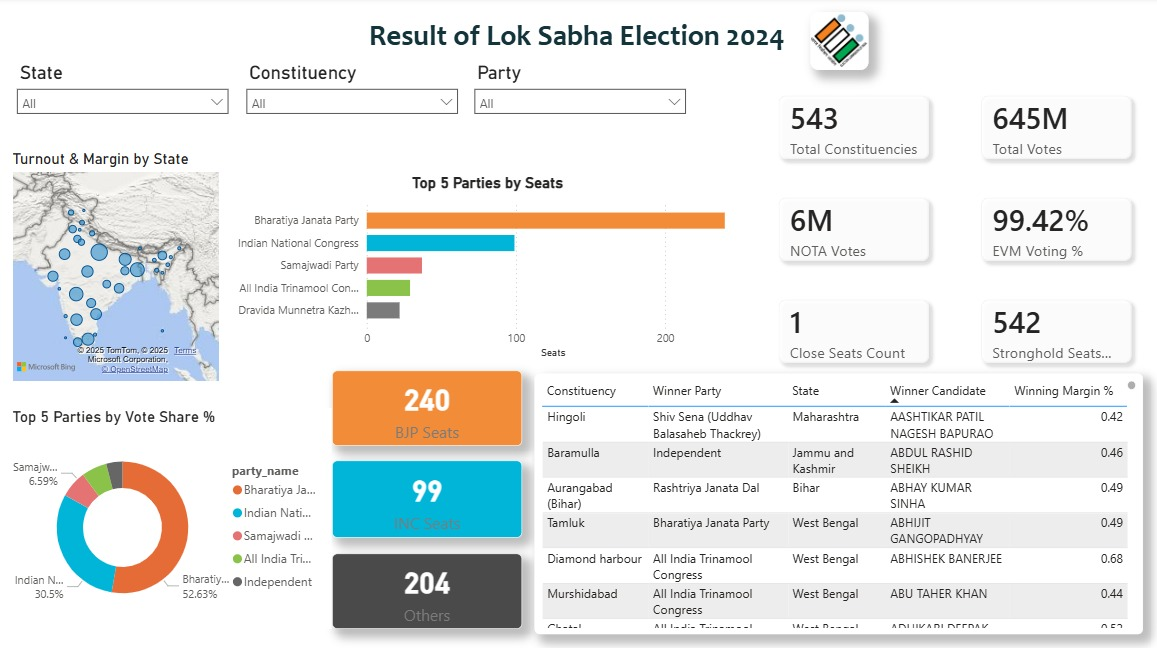

This screenshot's page, from the dashboard's own definition file:
{"tool":"powerbi","page":{"name":"Page 1","canvas":[1280,720],"ordinal":0},"visuals":[{"type":"textbox","box":[9.4,17,1256.7,52.9],"z":0},{"type":"slicer","fields":{"Values":["election_result_2024.state_name"]},"box":[9.4,66.1,253.2,86.9],"z":1000},{"type":"slicer","fields":{"Values":["election_result_2024.constituency_name"]},"box":[262.7,66.1,253.2,86.9],"z":2000},{"type":"slicer","fields":{"Values":["election_result_2024.party_name"]},"box":[515.9,66.1,253.2,86.9],"z":3000},{"type":"cardVisual","fields":{"Data":["election_result_2024.Total Constituencies"]},"box":[832,80,224,128],"z":4000},{"type":"cardVisual","fields":{"Data":["election_result_2024.Total Votes"]},"box":[1056,80,224,128],"z":5000},{"type":"cardVisual","fields":{"Data":["election_result_2024.NOTA Votes"]},"box":[832,192,224,128],"z":6000},{"type":"cardVisual","fields":{"Data":["election_result_2024.EVM Voting %"]},"box":[1056,192,224,128],"z":7000},{"type":"cardVisual","fields":{"Data":["election_result_2024.Close Seats Count"]},"box":[832,304,224,128],"z":8000},{"type":"cardVisual","fields":{"Data":["election_result_2024.Stronghold Seats Count"]},"box":[1056,304,224,128],"z":9000},{"type":"map","title":"Turnout & Margin by State","fields":{"Category":["election_result_2024.state_name"],"Size":["election_result_2024.Total Votes"]},"box":[9.4,168.2,238.1,258.9],"z":10000},{"type":"clusteredBarChart","title":"Top 5 Parties by Seats","fields":{"Category":["election_result_2024.party_name"],"Y":["election_result_2024.Seats by Party"]},"box":[247.6,194.6,585.8,207.9],"z":11000},{"type":"card","fields":{"Values":["election_result_2024.Seats - BJP"]},"box":[368.5,412,209.8,83.2],"z":12000},{"type":"card","fields":{"Values":["election_result_2024.Seats - INC"]},"box":[368.5,512.1,209.8,85],"z":13000},{"type":"card","fields":{"Values":["election_result_2024.Seats - Others"]},"box":[368.5,614.2,209.8,83.2],"z":14000},{"type":"donutChart","title":"Top 5 Parties by Vote Share %","fields":{"Category":["election_result_2024.party_name"],"Y":["election_result_2024.Votes by Party"]},"box":[9.4,453.5,357.2,243.8],"z":15000},{"type":"tableEx","fields":{"Values":["election_result_2024.constituency_name","election_result_2024.party_name","election_result_2024.state_name","election_result_2024.candidate_name","election_result_2024.Winning Margin %"]},"box":[592,416,672,288],"z":16000},{"type":"image","box":[896,16,64,64],"z":16001}]}

Visuals, with their boxes in screenshot pixels (x1, y1, x2, y2), scaled from the page's 1280x720 canvas onto the 1157x648 screenshot:
textbox: locate(8, 15, 1144, 63)
slicer - election_result_2024.state_name: locate(8, 59, 237, 138)
slicer - election_result_2024.constituency_name: locate(237, 59, 466, 138)
slicer - election_result_2024.party_name: locate(466, 59, 695, 138)
cardVisual - election_result_2024.Total Constituencies: locate(752, 72, 955, 187)
cardVisual - election_result_2024.Total Votes: locate(955, 72, 1156, 187)
cardVisual - election_result_2024.NOTA Votes: locate(752, 173, 955, 288)
cardVisual - election_result_2024.EVM Voting %: locate(955, 173, 1156, 288)
cardVisual - election_result_2024.Close Seats Count: locate(752, 274, 955, 389)
cardVisual - election_result_2024.Stronghold Seats Count: locate(955, 274, 1156, 389)
"Turnout & Margin by State" map: locate(8, 151, 224, 384)
"Top 5 Parties by Seats" clusteredBarChart: locate(224, 175, 753, 362)
card - election_result_2024.Seats - BJP: locate(333, 371, 523, 446)
card - election_result_2024.Seats - INC: locate(333, 461, 523, 537)
card - election_result_2024.Seats - Others: locate(333, 553, 523, 628)
"Top 5 Parties by Vote Share %" donutChart: locate(8, 408, 331, 628)
tableEx - election_result_2024.constituency_name x election_result_2024.party_name: locate(535, 374, 1143, 634)
image: locate(810, 14, 868, 72)
